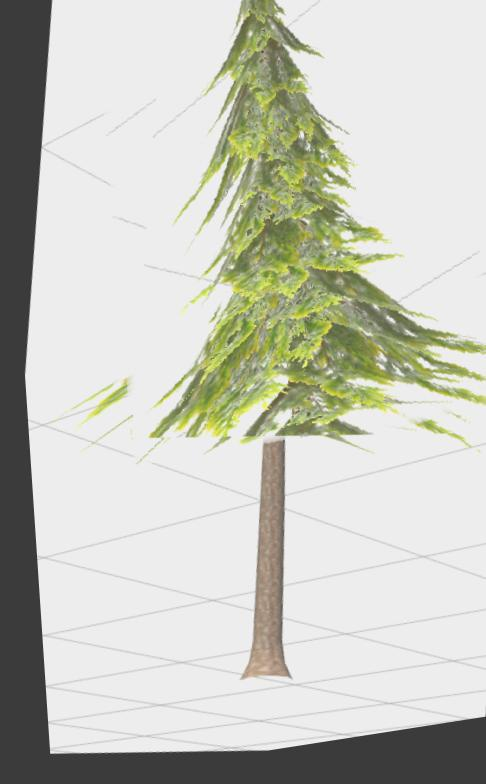tree_gazebo: (134, 0, 481, 445)
